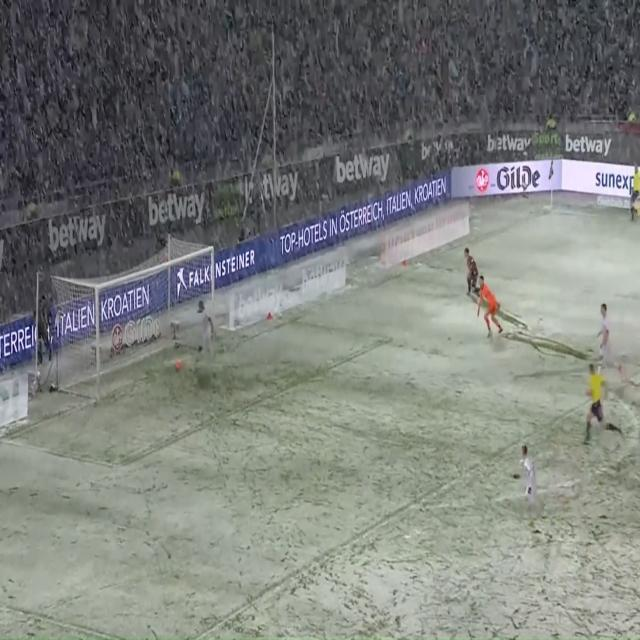ball: (173, 357, 184, 374)
goalkeeper: (475, 274, 505, 342)
player: (510, 431, 545, 536), (598, 289, 628, 385), (188, 298, 219, 371), (456, 245, 479, 306)
referee: (575, 357, 623, 453), (624, 160, 640, 223)
